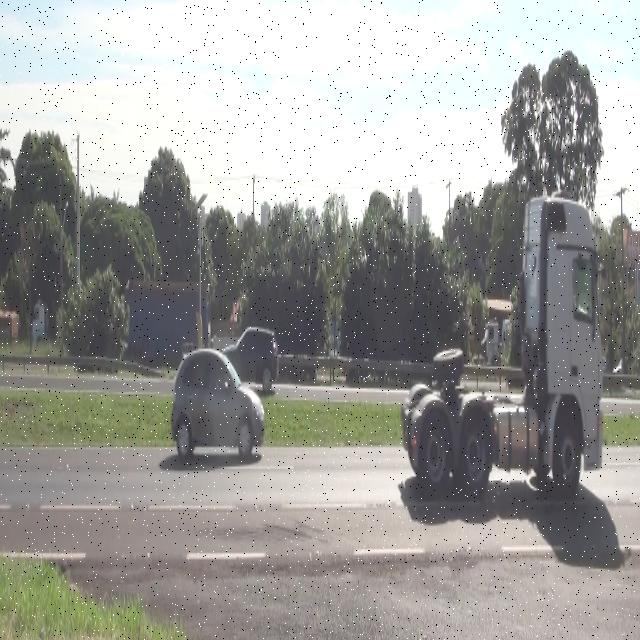-axle: (455, 407, 494, 499), (422, 412, 449, 501), (553, 418, 583, 498)
